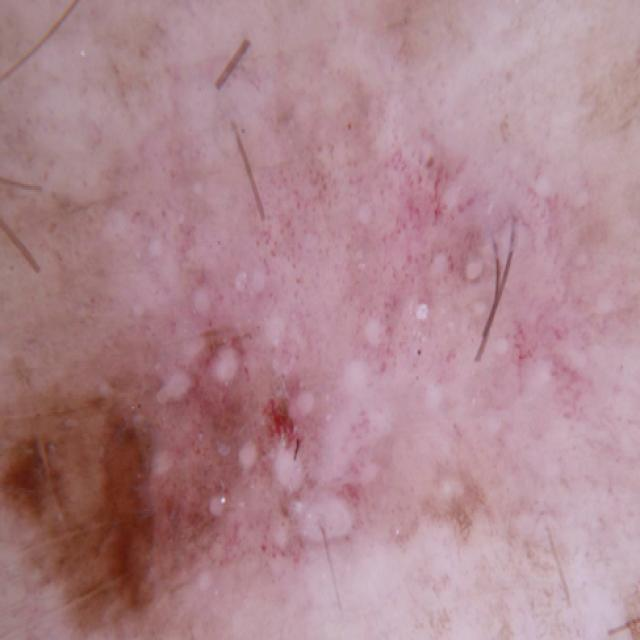Keratosis: (0, 118, 635, 632)
